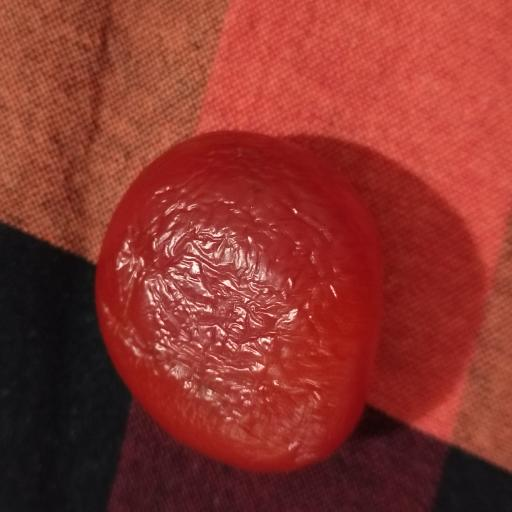spoiled: (97, 133, 382, 469)
